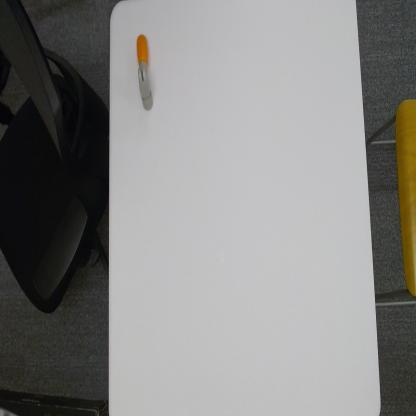Hammer: (136, 34, 154, 109)
